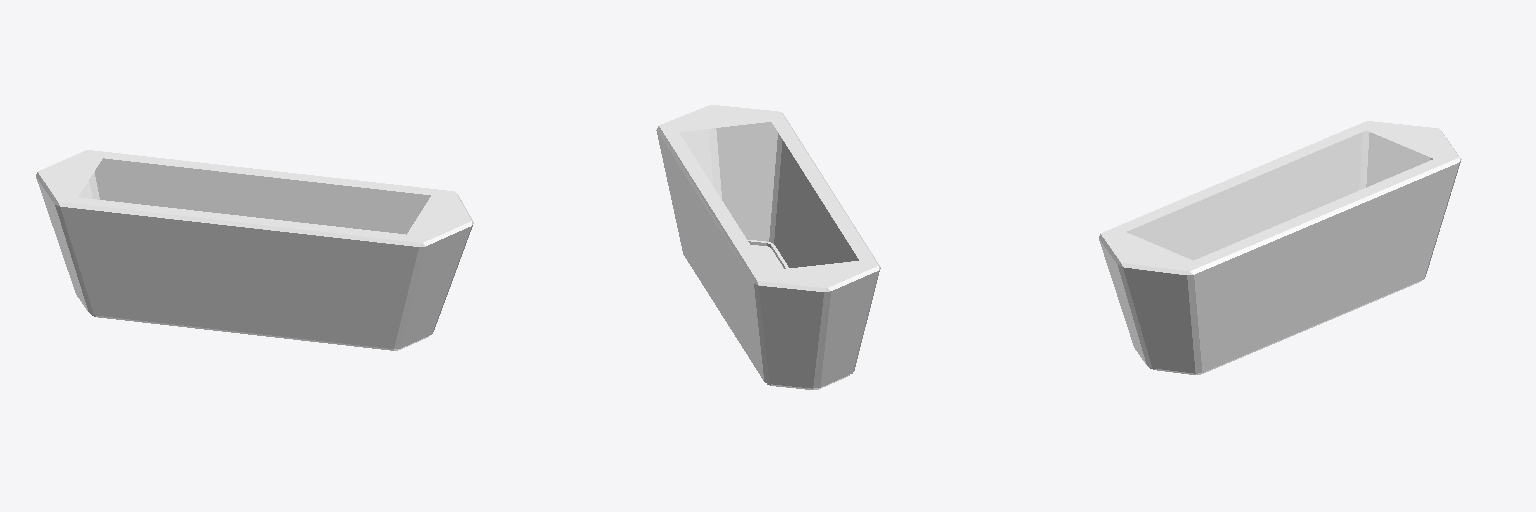
Rendered from Table_1.obj.
3 views of the same model, side by side, from view 1: azimuth 30°, elevation 25°; view 2: azimuth 150°, elevation 25°; view 3: azimuth 270°, elevation 25° (orthographic).
Parts seen in each view (by area): view 1: Mesh172_Group147_Group146_Component_2_1_Model; view 2: Mesh172_Group147_Group146_Component_2_1_Model; view 3: Mesh172_Group147_Group146_Component_2_1_Model.
Boxes of the visible parts, x1,y1,x2,y2 form: Mesh172_Group147_Group146_Component_2_1_Model: [36, 150, 473, 350]; Mesh172_Group147_Group146_Component_2_1_Model: [656, 105, 880, 389]; Mesh172_Group147_Group146_Component_2_1_Model: [1099, 121, 1461, 374].
Bounding box in the file's own units: 102 × 37.31 × 103.